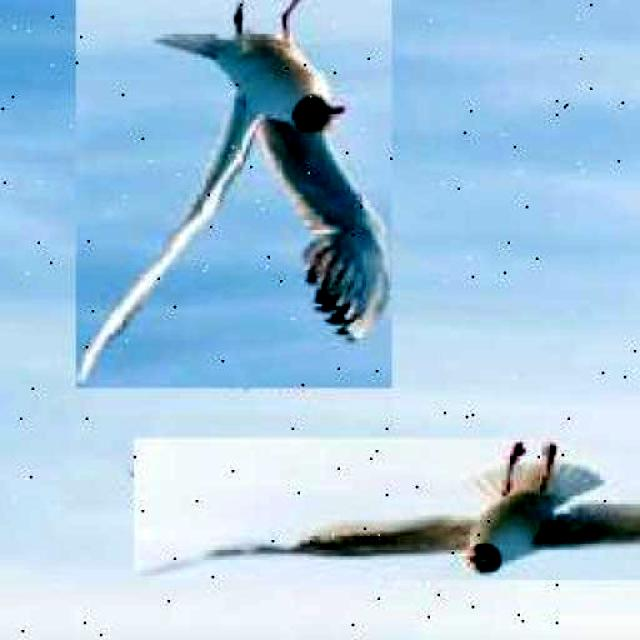airplane: (76, 0, 392, 389), (134, 438, 640, 580)
